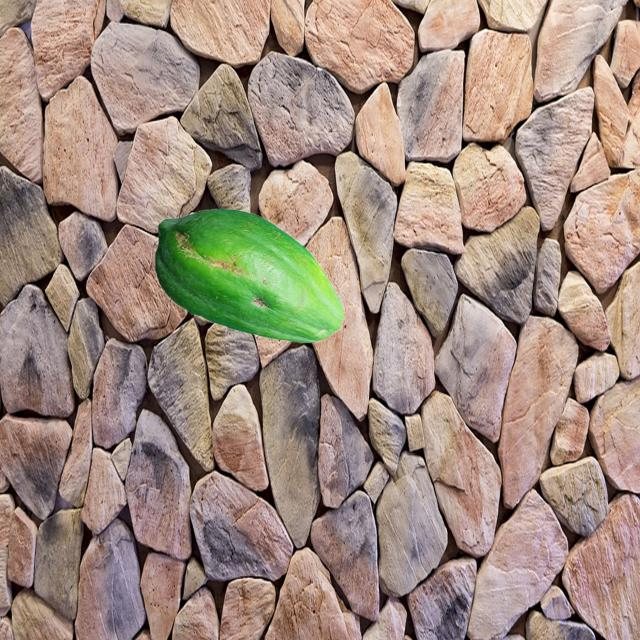Pepaya unrippen: (132, 195, 349, 361)
